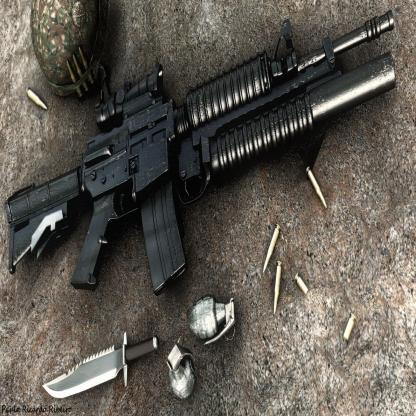Grenade: (187, 292, 236, 348), (165, 340, 197, 404)
Gun: (2, 7, 416, 299)
Knife: (42, 326, 158, 402)
